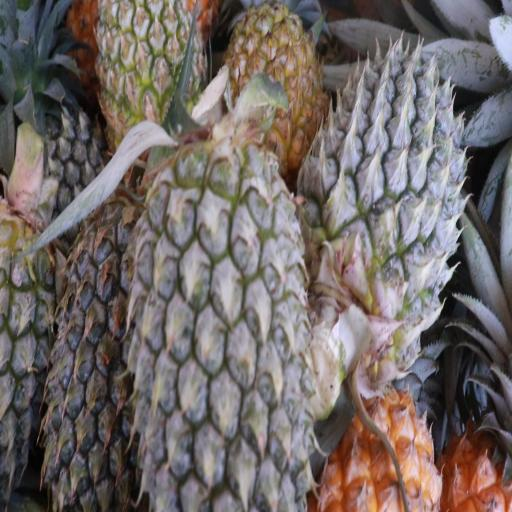------------------------------: (100, 0, 205, 140)
Pineapple - v8 v1: (321, 381, 446, 512), (221, 3, 324, 155)
